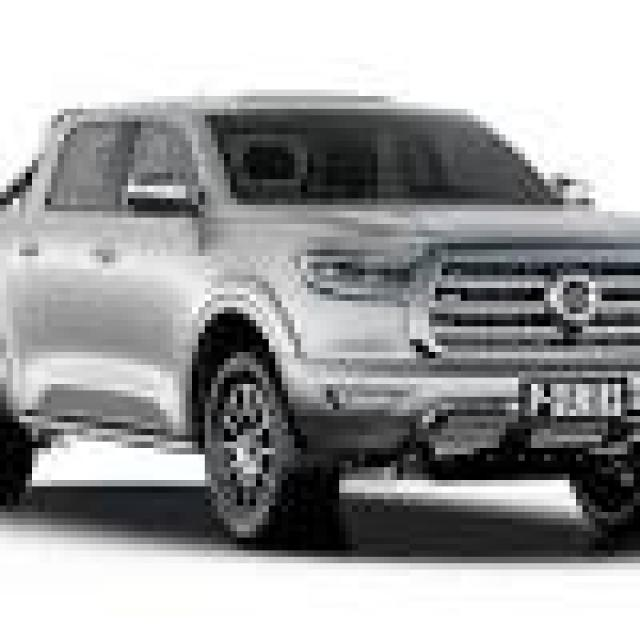Pickup Trucks: (6, 83, 634, 557)
